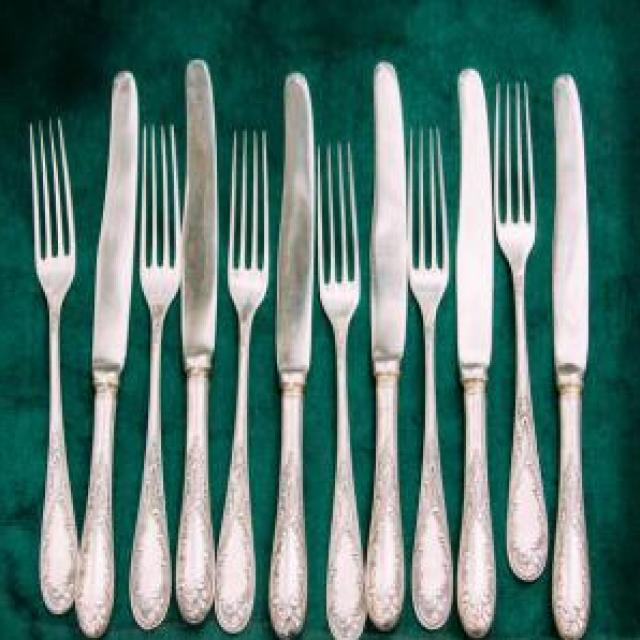knife: (75, 68, 141, 640), (174, 52, 220, 630), (270, 66, 316, 634), (367, 51, 407, 634), (549, 68, 588, 640), (455, 60, 493, 637)
